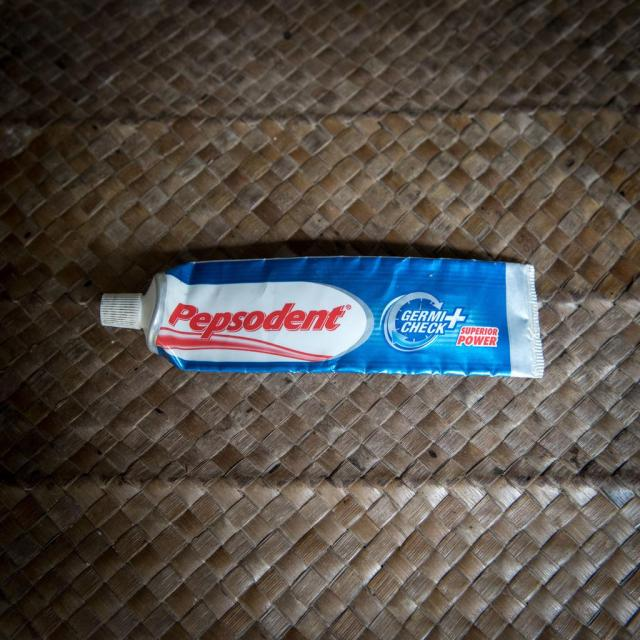Toothpaste: (85, 241, 557, 386)
